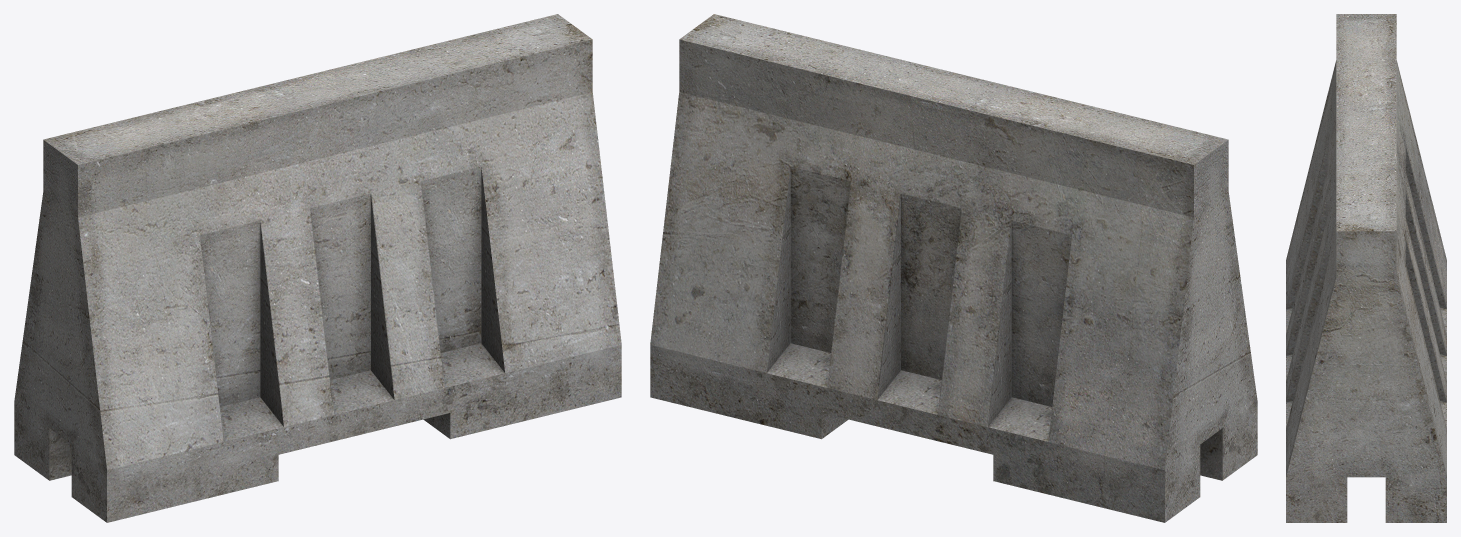
File: road_bar1_LOD0.fbx
3 views of the same model, side by side, from view 1: azimuth 30°, elevation 25°; view 2: azimuth 150°, elevation 25°; view 3: azimuth 270°, elevation 25° (orthographic). The views are drawn at different scales.
Visible parts, largest first — view 1: Box01; view 2: Box01; view 3: Box01.
Boxes of the visible parts, left/top/right/bottom form: Box01: left=14, top=14, right=621, bottom=522; Box01: left=650, top=14, right=1257, bottom=522; Box01: left=1286, top=14, right=1446, bottom=522.
Bounding box in the file's own units: 1.32 × 0.8279 × 0.414.
